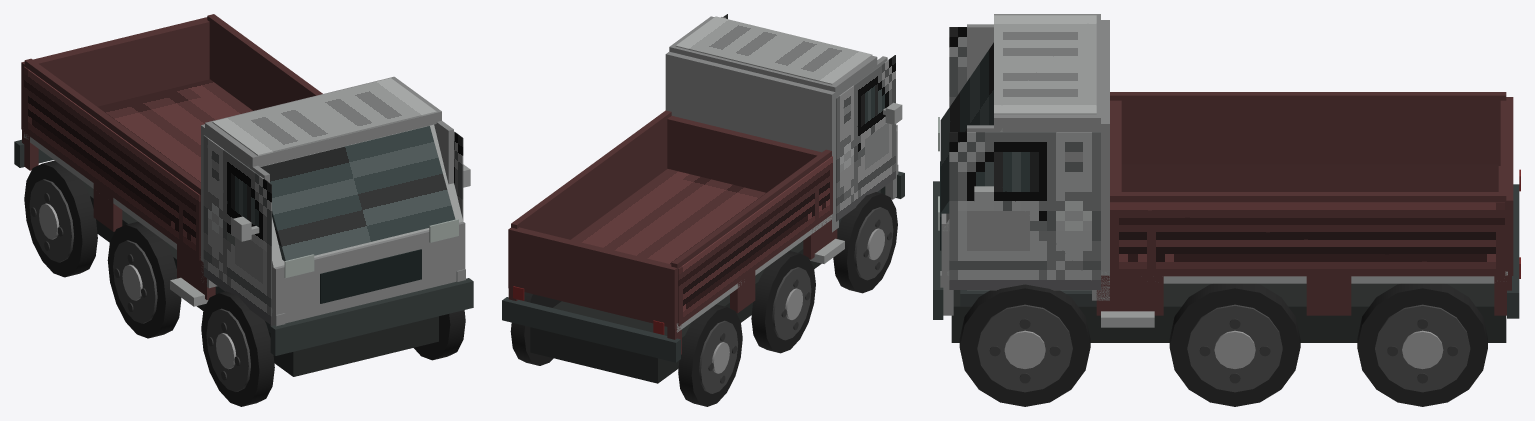
File: CMU3DRMCPropVehicleSmallTruckRedF.glb
The picture shows the model from 3 angles, left to right: view 1: azimuth 30°, elevation 25°; view 2: azimuth 150°, elevation 25°; view 3: azimuth 270°, elevation 25°; orthographic projection. The views are drawn at different scales.
Parts seen in each view (by area): view 1: continuous sloped windshield, original cargo side -1, tailgate, original cab door -1, original cab roof, cab lower front, original recessed bed floor, front bumper, ladder chassis, cargo side board 1, tire 3 -1, tire 2 -1 (+24 smaller); view 2: cab rear wall, tailgate, original recessed bed floor, original cargo side -1, original cab door -1, bed front board, original cab roof, cargo side board 1, ladder chassis, rear bumper, tire 2 -1, tire 3 -1 (+16 smaller); view 3: original cargo side 1, cargo side board -1, original cab door 1, original recessed bed floor, original cab roof, ladder chassis, tire 2 1, tire 3 1, tire 1 1, rim 1 1, rim 2 1, rim 3 1 (+22 smaller).
Part boxes in pixels (<box>): continuous sloped windshield: <box>260,126,455,261</box>; original cargo side -1: <box>24,66,200,260</box>; tailgate: <box>21,17,209,130</box>; original cab door -1: <box>203,135,271,325</box>; original cab roof: <box>212,78,436,155</box>; cab lower front: <box>272,221,465,323</box>; original recessed bed floor: <box>97,79,252,182</box>; front bumper: <box>270,278,473,355</box>; ladder chassis: <box>82,181,438,376</box>; cargo side board 1: <box>209,22,311,110</box>; tire 3 -1: <box>24,160,97,277</box>; tire 2 -1: <box>107,221,181,338</box>; cab rear wall: <box>665,51,838,232</box>; tailgate: <box>508,227,679,328</box>; original recessed bed floor: <box>571,169,765,264</box>; original cargo side -1: <box>678,156,832,326</box>; original cab door -1: <box>836,55,895,221</box>; bed front board: <box>667,116,831,192</box>; original cab roof: <box>675,16,872,84</box>; cargo side board 1: <box>520,119,667,239</box>; ladder chassis: <box>530,228,838,383</box>; rear bumper: <box>502,297,680,362</box>; tire 2 -1: <box>751,251,815,353</box>; tire 3 -1: <box>678,304,742,406</box>; original cargo side 1: <box>1110,202,1504,276</box>; cargo side board -1: <box>1121,101,1500,165</box>; original cab door 1: <box>949,132,1100,289</box>; original recessed bed floor: <box>1121,164,1498,191</box>; original cab roof: <box>994,15,1096,114</box>; ladder chassis: <box>951,283,1506,342</box>; tire 2 1: <box>1169,283,1300,406</box>; tire 3 1: <box>1357,283,1487,406</box>; tire 1 1: <box>959,284,1090,406</box>; rim 1 1: <box>977,304,1072,392</box>; rim 2 1: <box>1187,304,1282,392</box>; rim 3 1: <box>1375,304,1470,392</box>.
Size of the model in its own units: 1.04 by 1.1 by 2.06.
Materials: 23 (5 with a texture image).
